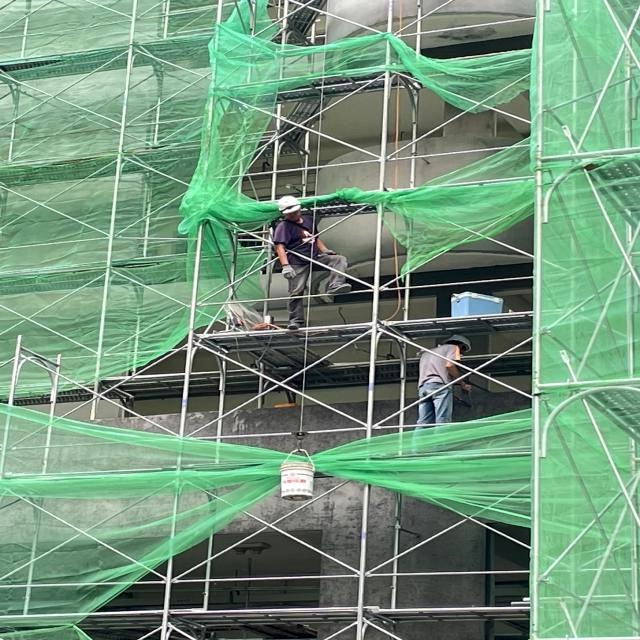Con_Casco: (277, 195, 302, 216)
